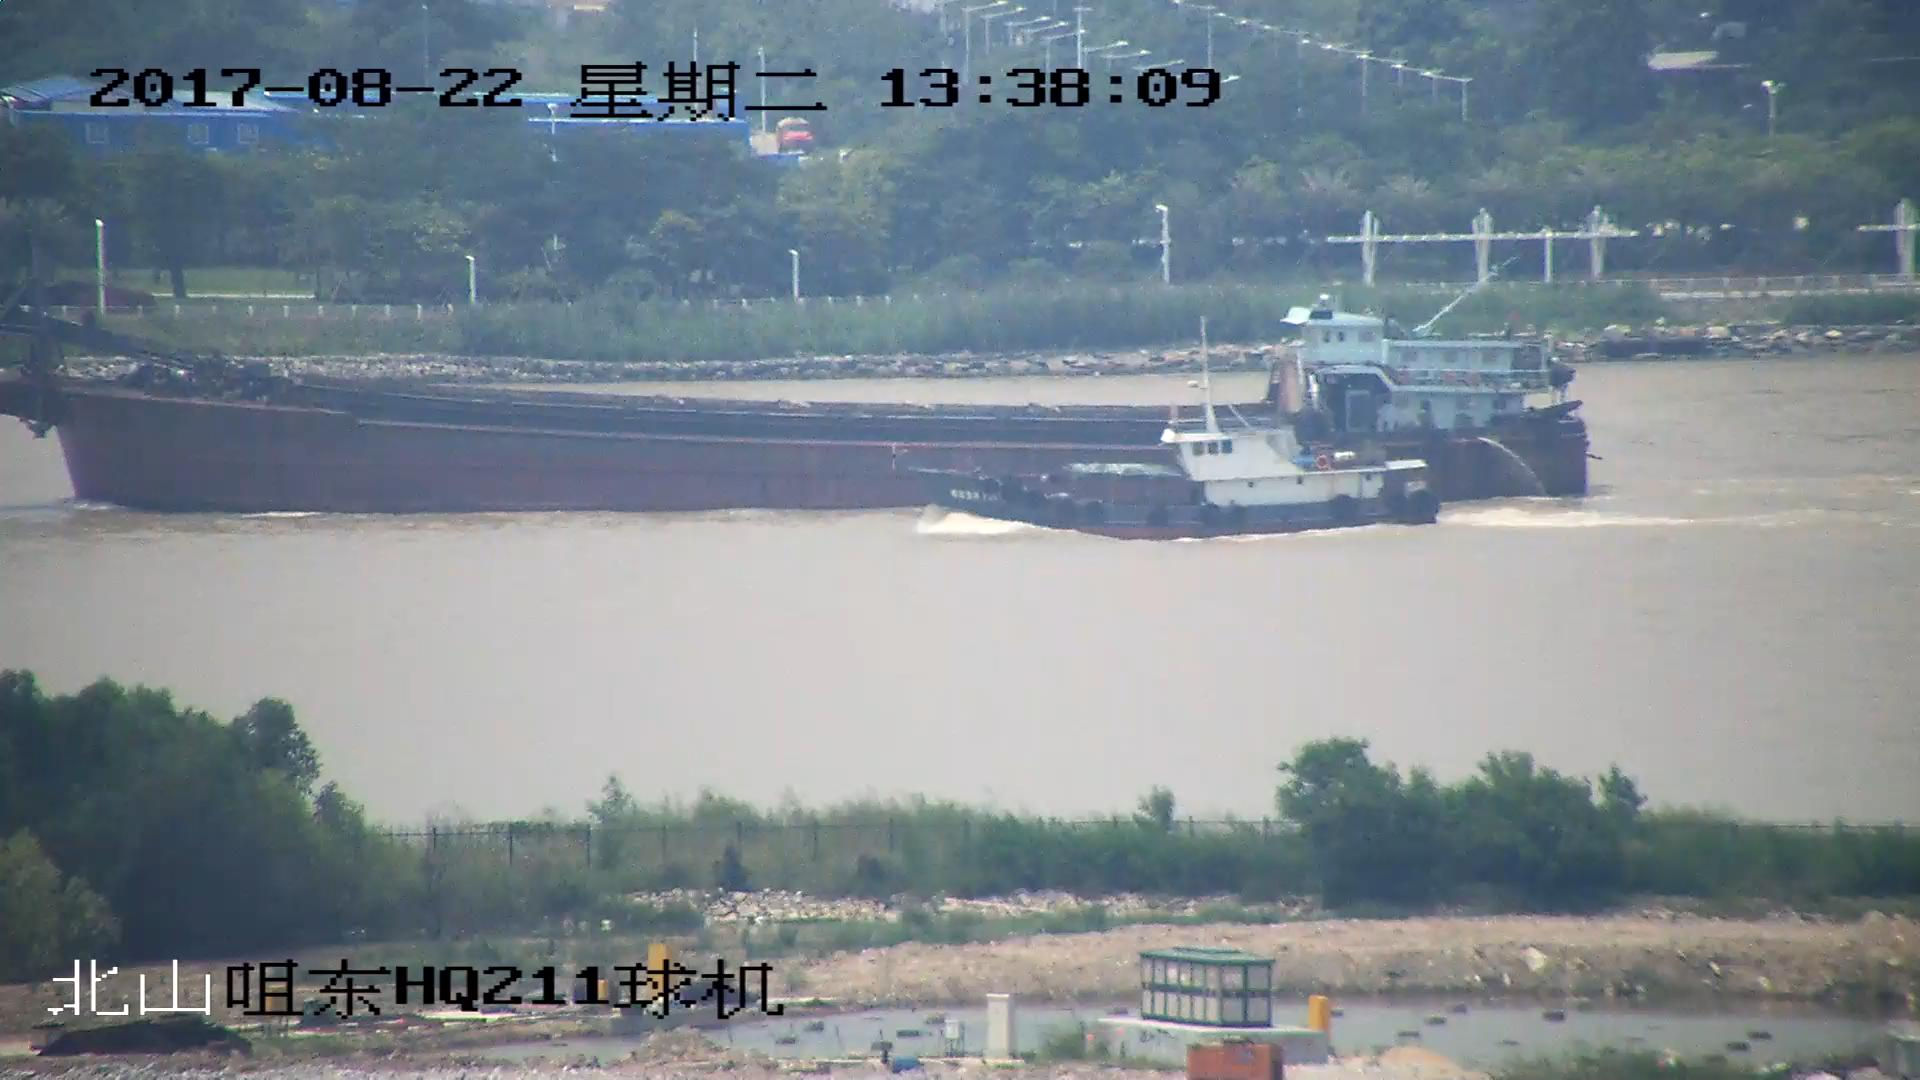bulk cargo carrier: (1, 278, 1595, 520)
passenger ship: (950, 363, 1435, 537)
